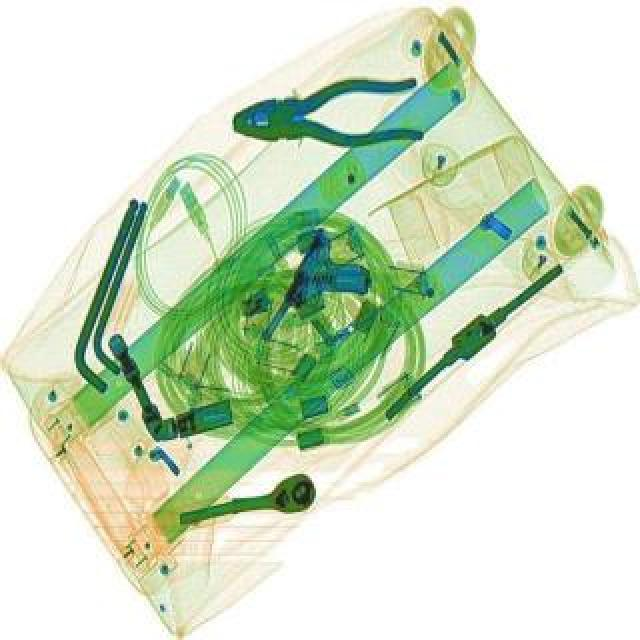gun: (258, 226, 388, 368)
wrench: (230, 72, 426, 154)
